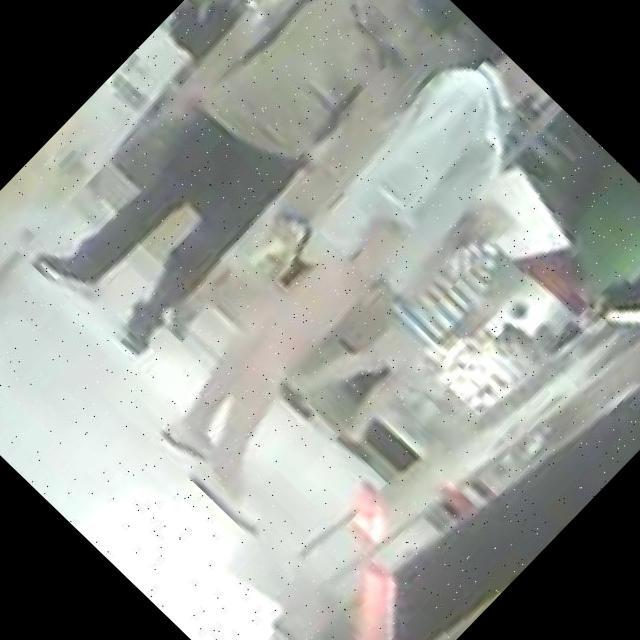person: (117, 32, 614, 536), (20, 0, 471, 367), (279, 201, 548, 474)
